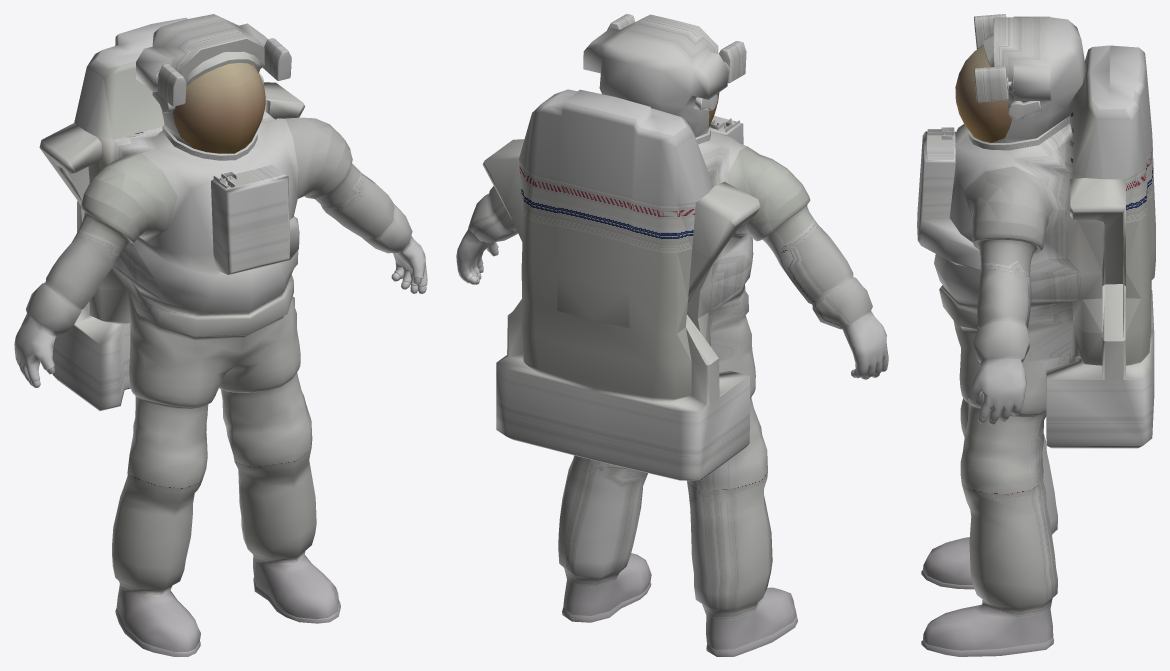
The model's file is Astronaut.glb.
The picture shows the model from 3 angles, left to right: view 1: azimuth 30°, elevation 25°; view 2: azimuth 150°, elevation 25°; view 3: azimuth 270°, elevation 25°; orthographic projection. The views are drawn at different scales.
Visible parts, largest first — view 1: astronaut1; view 2: astronaut1; view 3: astronaut1.
Part boxes in pixels (bbox=[...]): astronaut1: bbox=[14, 14, 427, 656]; astronaut1: bbox=[456, 14, 888, 656]; astronaut1: bbox=[917, 14, 1155, 656].
Size of the model in its own units: 1.32 by 1.8 by 0.669.
2 materials, 2 textured.
